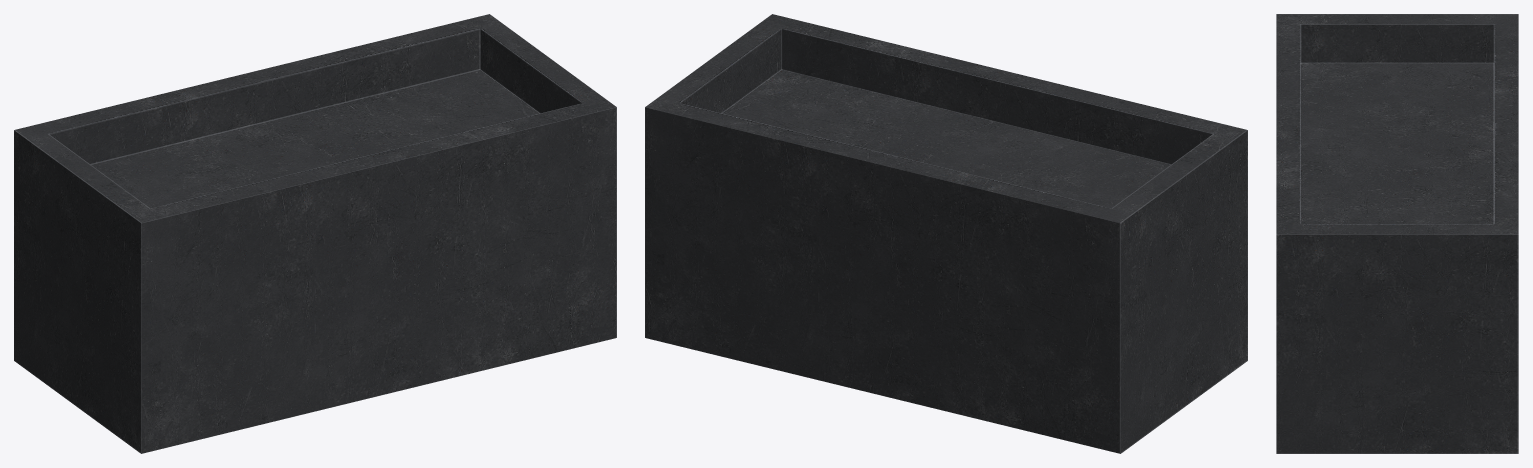
Rendered from food_container.fbx.
3 renders of one model, left to right at view 1: azimuth 30°, elevation 25°; view 2: azimuth 150°, elevation 25°; view 3: azimuth 270°, elevation 25°, orthographic. The views are drawn at different scales.
Visible parts, largest first — view 1: FoodContainer; view 2: FoodContainer; view 3: FoodContainer.
Part boxes in pixels (left/top/right/bottom): FoodContainer: left=14, top=14, right=616, bottom=453; FoodContainer: left=645, top=14, right=1247, bottom=453; FoodContainer: left=1276, top=14, right=1518, bottom=453.
Size of the model in its own units: 1 by 2.16 by 1.
